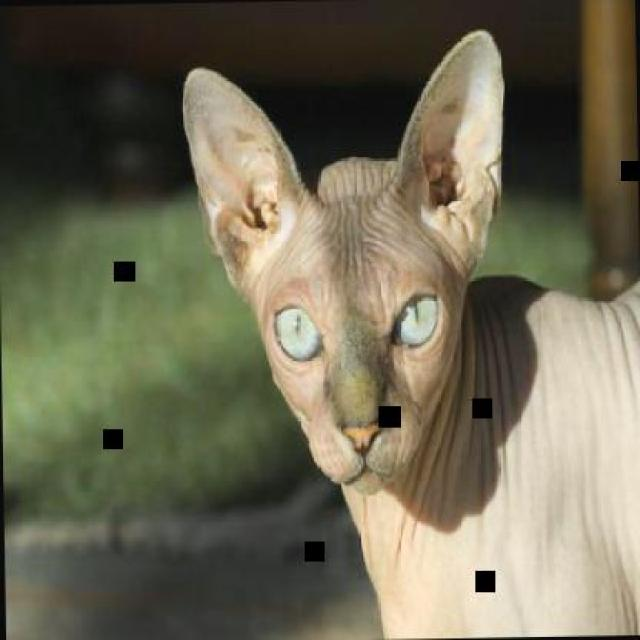cat: (178, 26, 638, 639)
